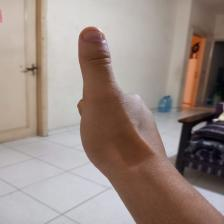five: (69, 25, 170, 168)
